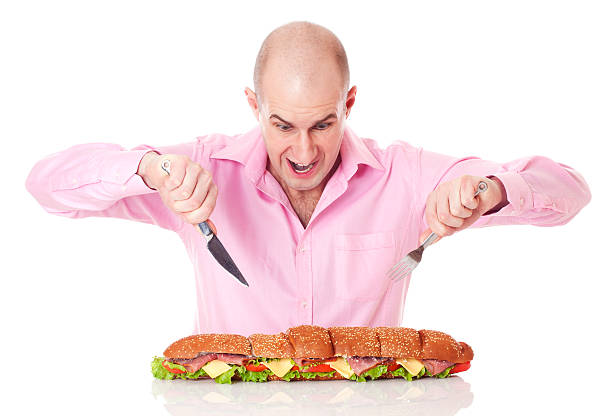knife: (160, 158, 251, 288)
